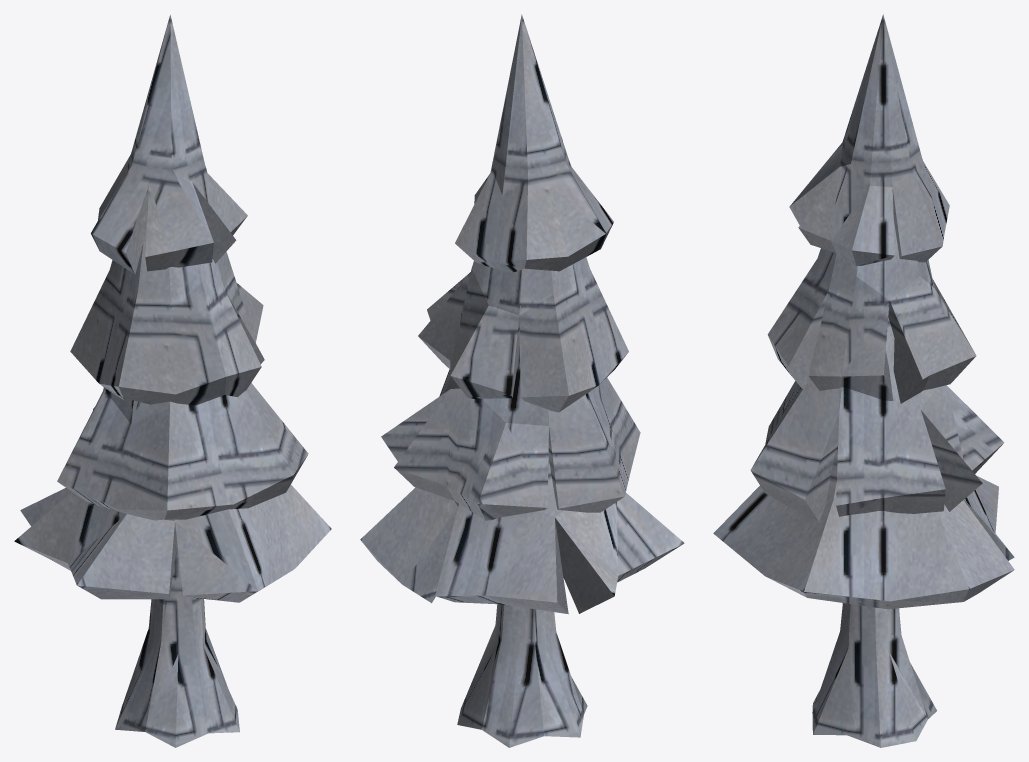
File: tree.obj
3 views of the same model, side by side, from view 1: azimuth 30°, elevation 25°; view 2: azimuth 150°, elevation 25°; view 3: azimuth 270°, elevation 25° (orthographic).
Parts seen in each view (by area): view 1: Meshpart1, Meshpart2; view 2: Meshpart1, Meshpart2; view 3: Meshpart1, Meshpart2.
Part boxes in pixels (x1,y1,x2,y2): Meshpart1: [14, 14, 331, 602]; Meshpart2: [115, 544, 239, 747]; Meshpart1: [360, 14, 684, 614]; Meshpart2: [457, 604, 587, 747]; Meshpart1: [713, 14, 1014, 609]; Meshpart2: [812, 603, 936, 747].
Size of the model in its own units: 14.77 by 39.69 by 15.42.
